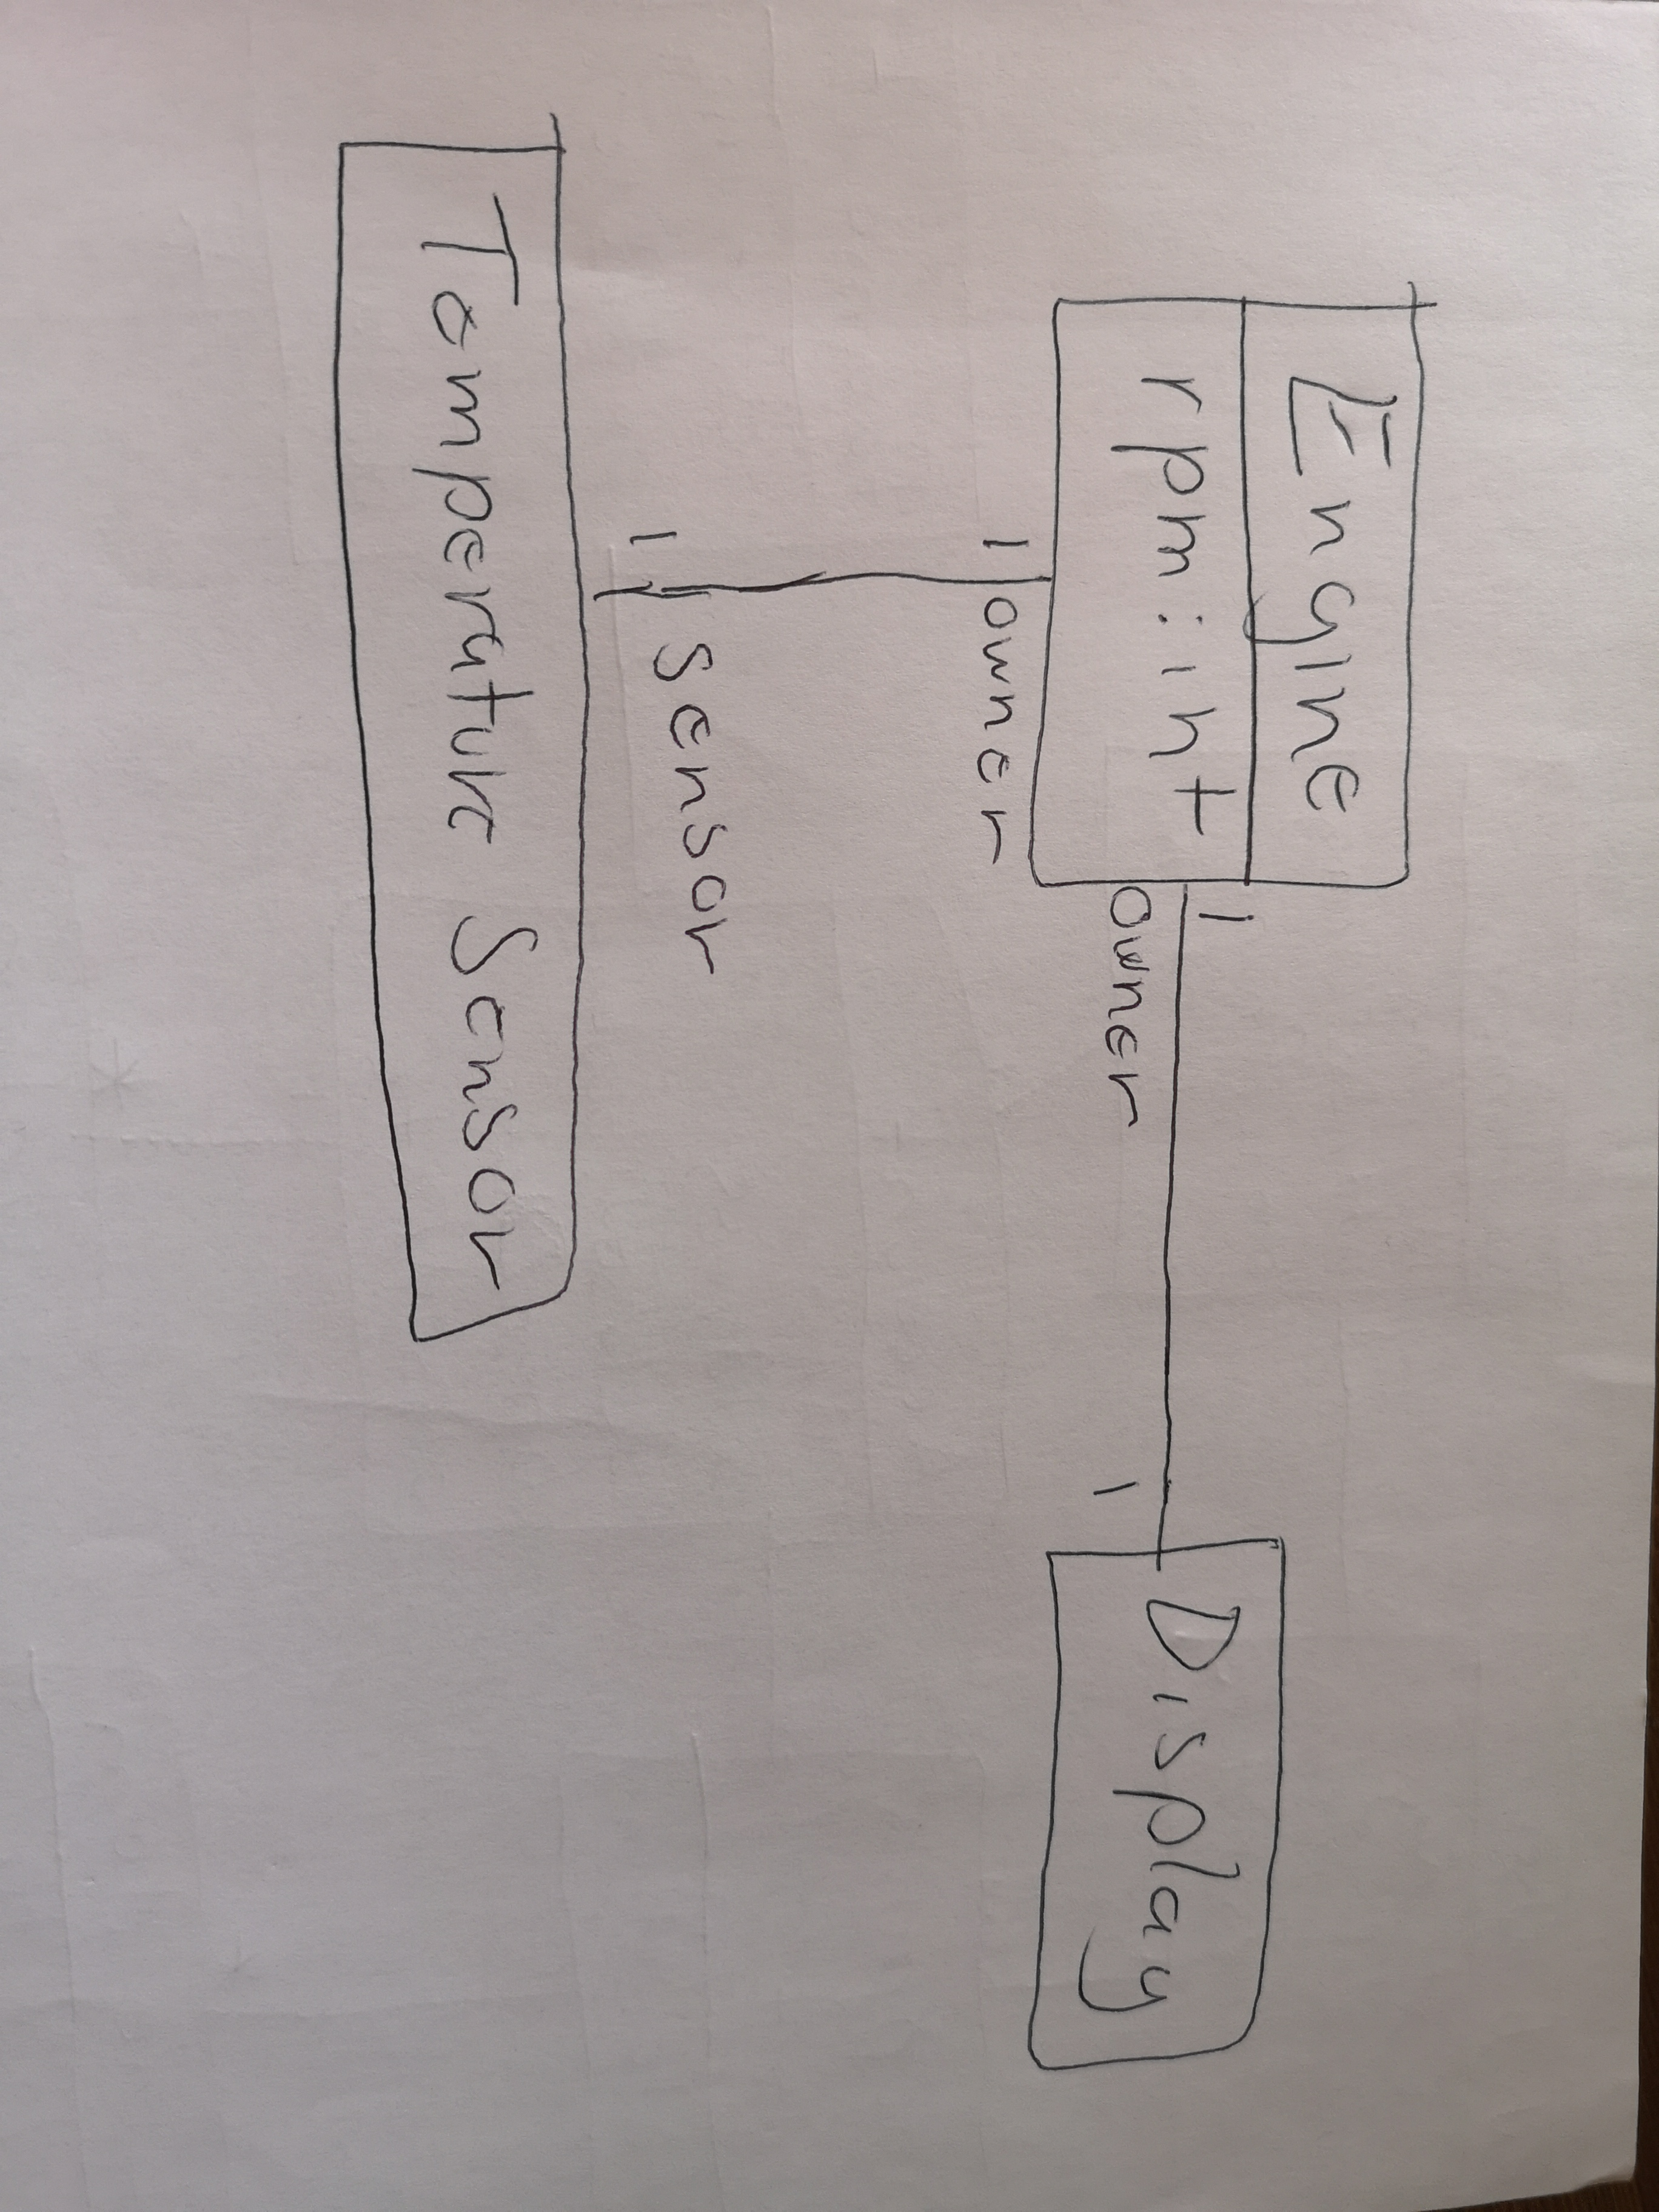association: (574, 480, 1065, 1000), (1078, 853, 1257, 1575)
class attributes: (1021, 279, 1426, 905)
simple class: (296, 87, 625, 1367), (998, 1540, 1298, 2117)
